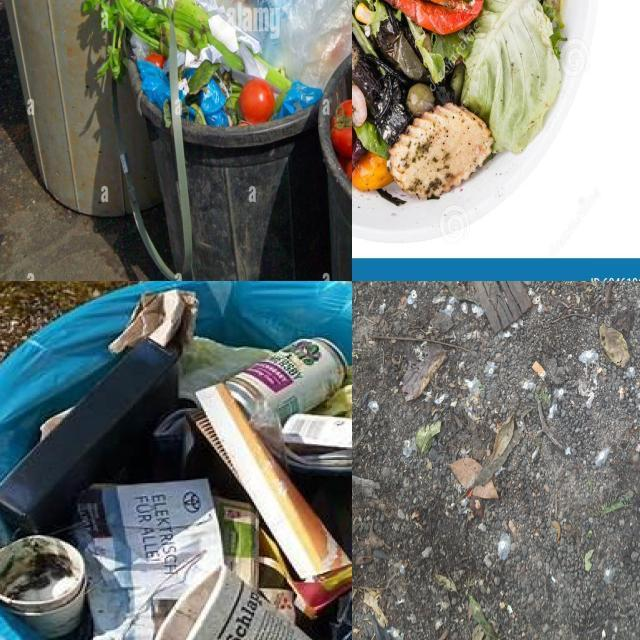Background: (352, 281, 640, 640)
Cig_bud: (532, 361, 547, 381)
Garbage: (0, 281, 352, 640), (83, 0, 352, 265), (352, 0, 561, 204)
Plastic_Bag: (215, 0, 352, 88), (273, 80, 322, 117), (198, 77, 229, 126), (138, 62, 170, 109), (183, 103, 196, 120)
can: (226, 338, 347, 426)
